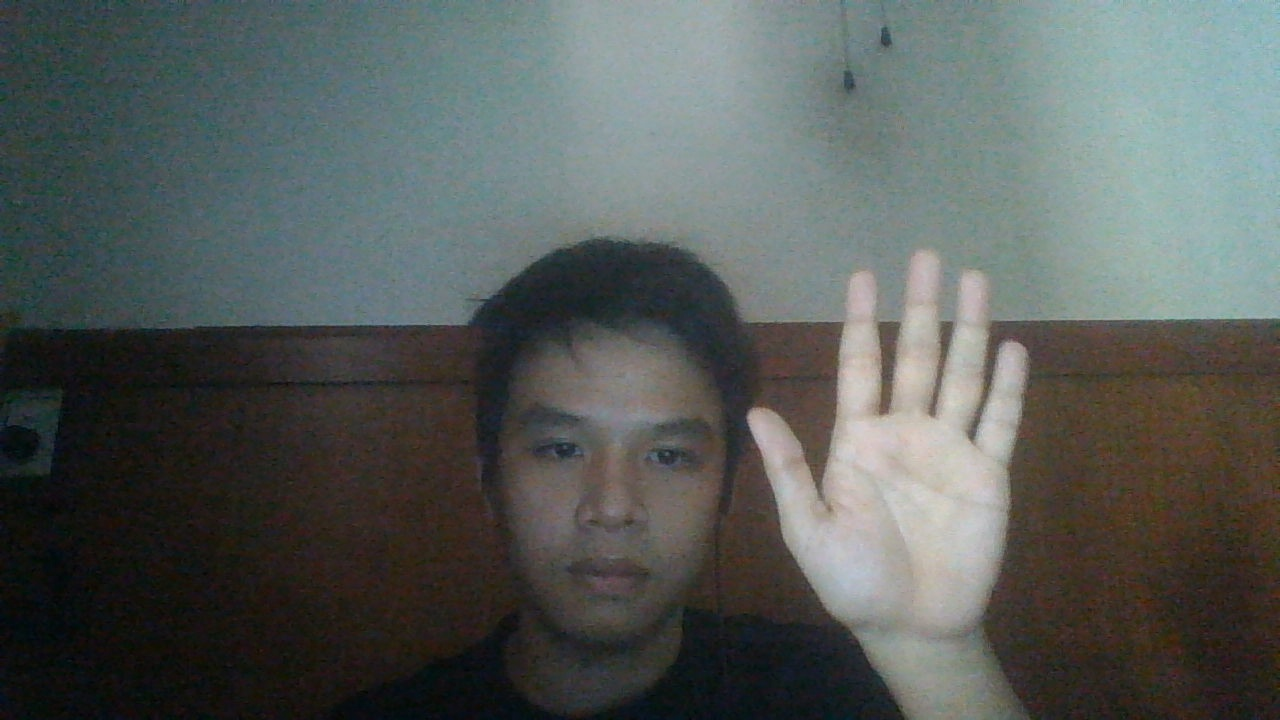check: (743, 244, 1033, 638)
